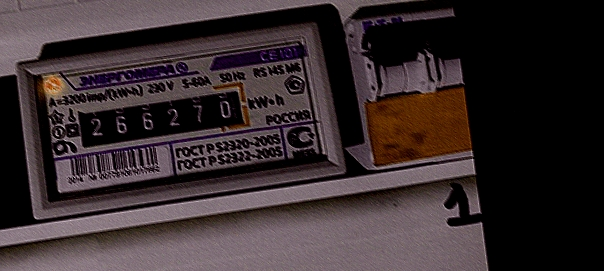0: (217, 98, 232, 120)
2: (87, 116, 105, 138), (164, 106, 181, 128)
6: (113, 113, 129, 135), (140, 110, 155, 132)
7: (190, 103, 205, 123)
screen: (67, 78, 256, 155)
